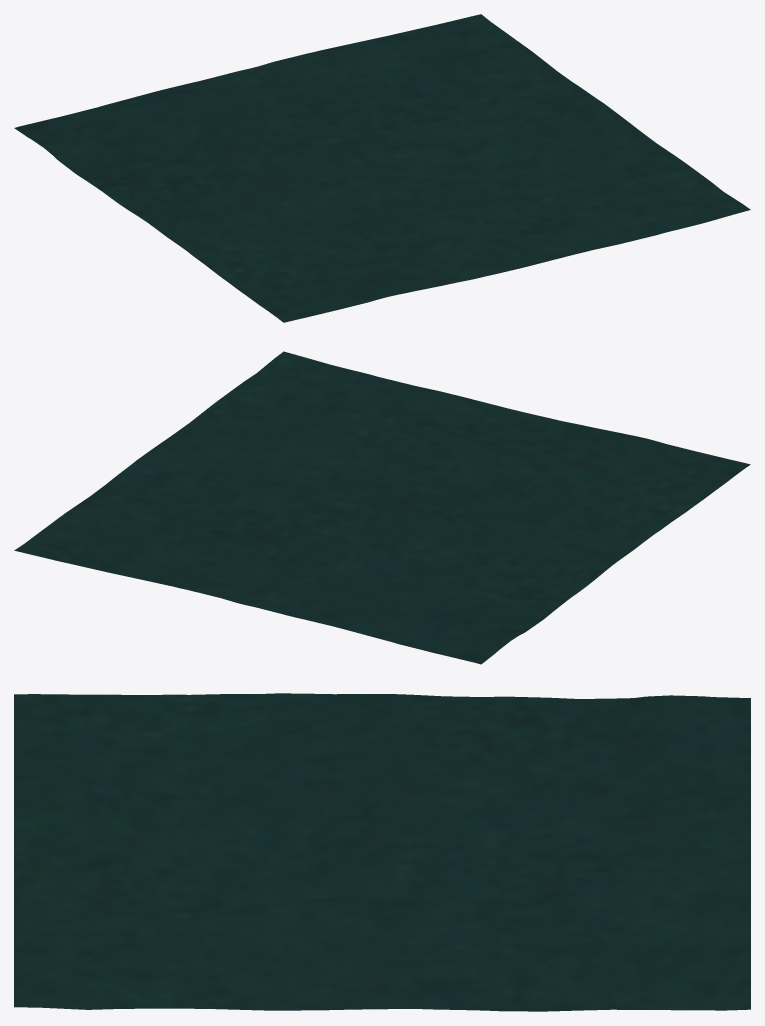
3 renders of one model, top to bottom at view 1: azimuth 30°, elevation 25°; view 2: azimuth 150°, elevation 25°; view 3: azimuth 270°, elevation 25°, orthographic. The views are drawn at different scales.
Bounding box in the file's own units: 52.22 × 0.6303 × 52.22.
Materials: 2 (2 with a texture image).
